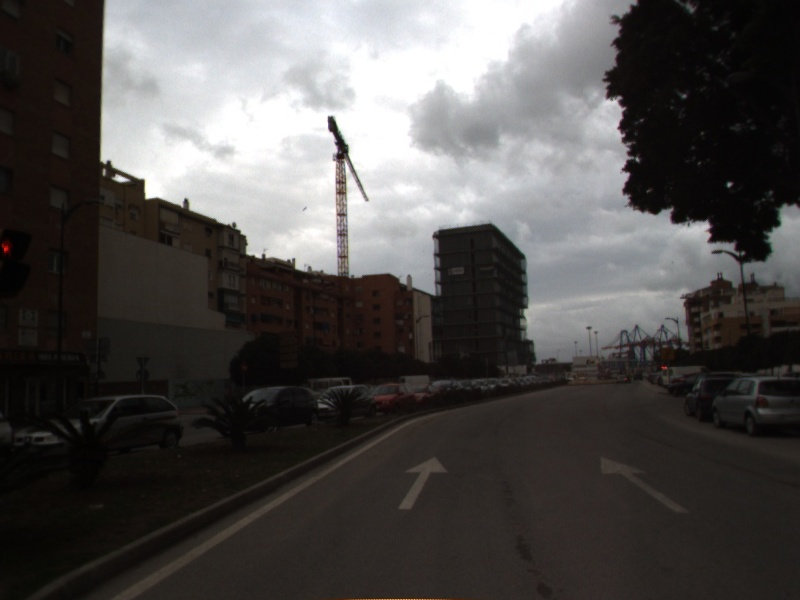STRAIGHT: (597, 453, 692, 515), (396, 453, 451, 512)
